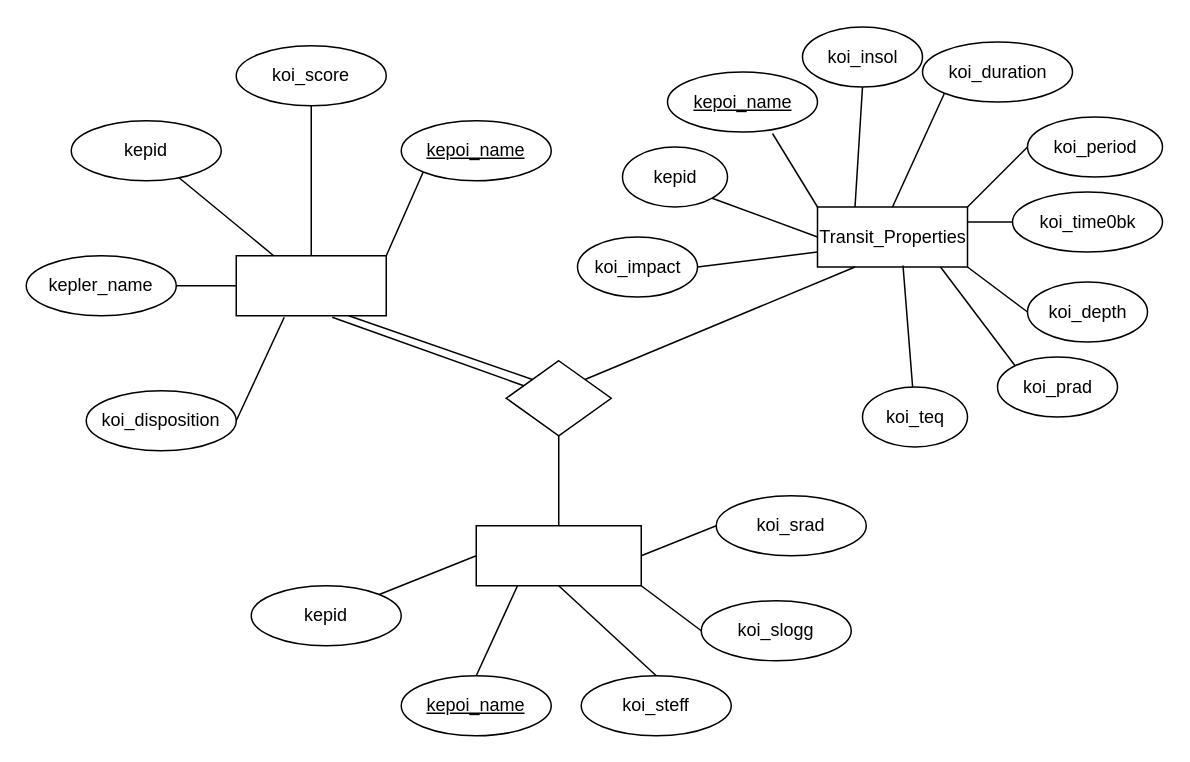
The diagram is 1190 pixels wide and 762 high, and some of its shapes have lost their labels. The centre of each missing label's shape, as x and y in pixels:
Exoplanet_info: the point at 310,285
has: the point at 558,397
Stellar_Parameters: the point at 558,555
